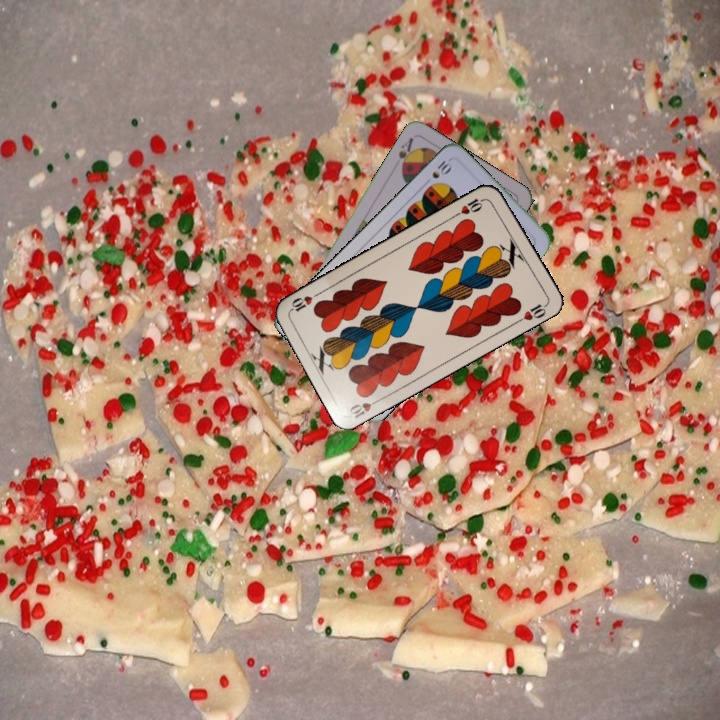H10: (345, 394, 385, 421), (451, 194, 489, 219)
S10: (420, 156, 455, 188)
SA: (394, 133, 418, 173)
